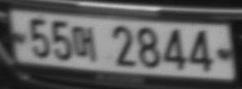2: (111, 25, 135, 66)
4: (162, 28, 187, 70), (188, 29, 213, 71)
5: (29, 17, 50, 57), (51, 20, 71, 60)
8: (136, 26, 161, 68)
머: (72, 25, 97, 62)
